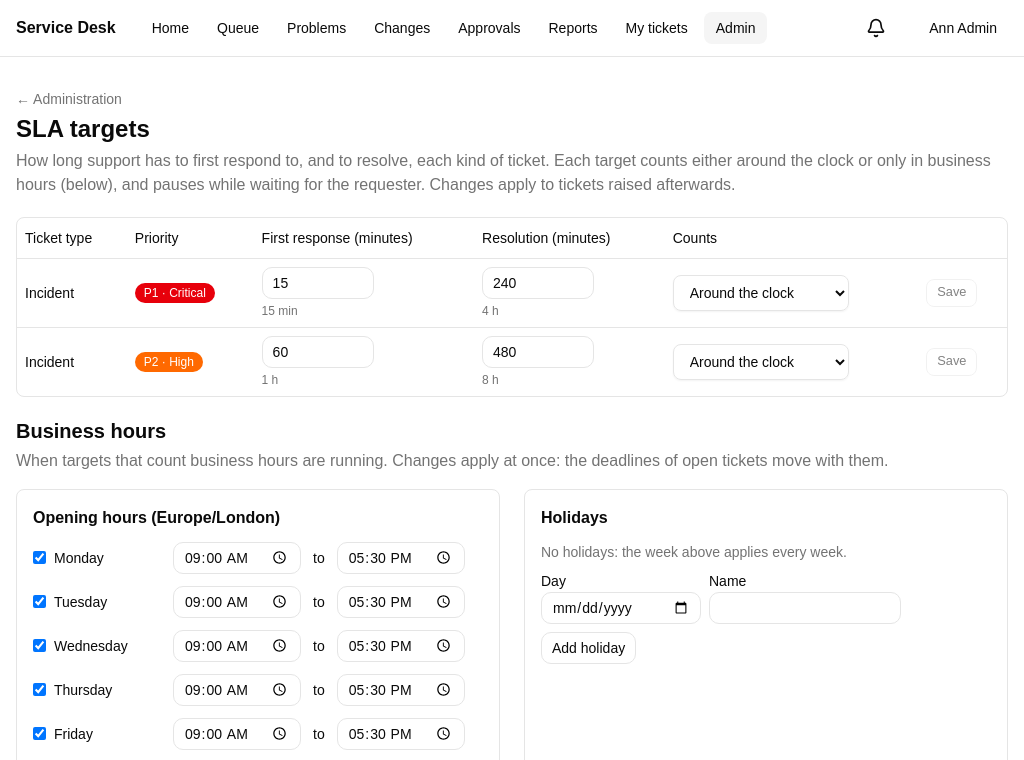
Scenario: SLA targets page › shows why the server refused a change
Clear the number field named "Incident P1 first response, in minutes" at (318, 282), box [262,266,374,298]
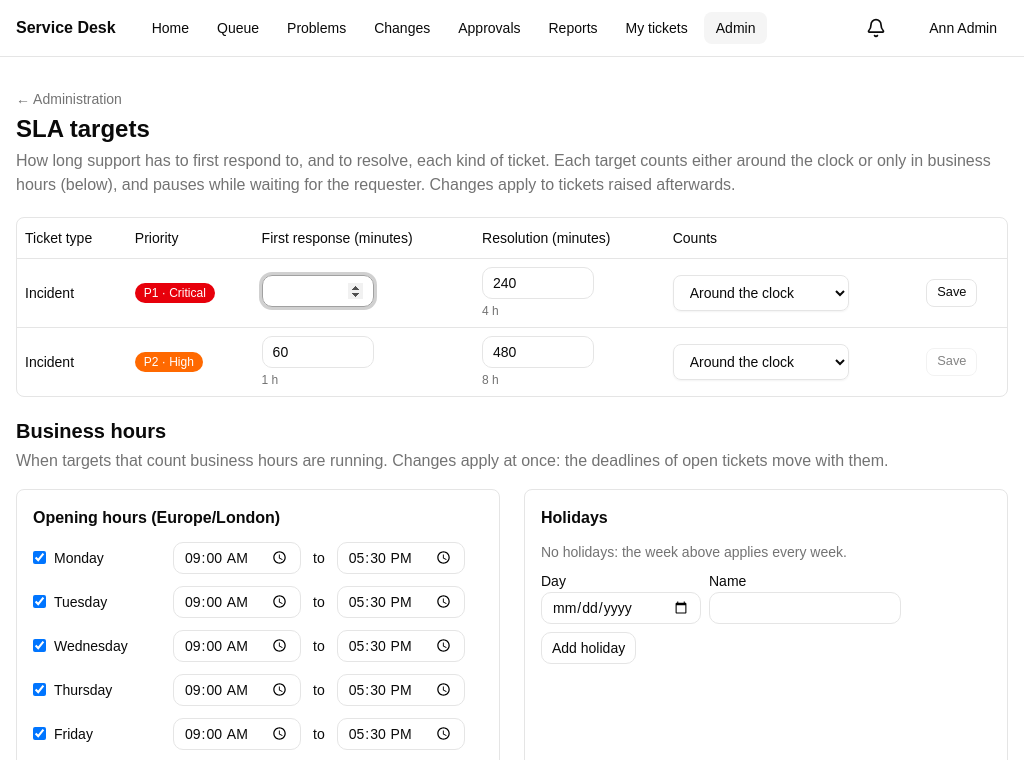
Type "999" into the number field named "Incident P1 first response, in minutes" at (318, 290), box [262,274,374,306]
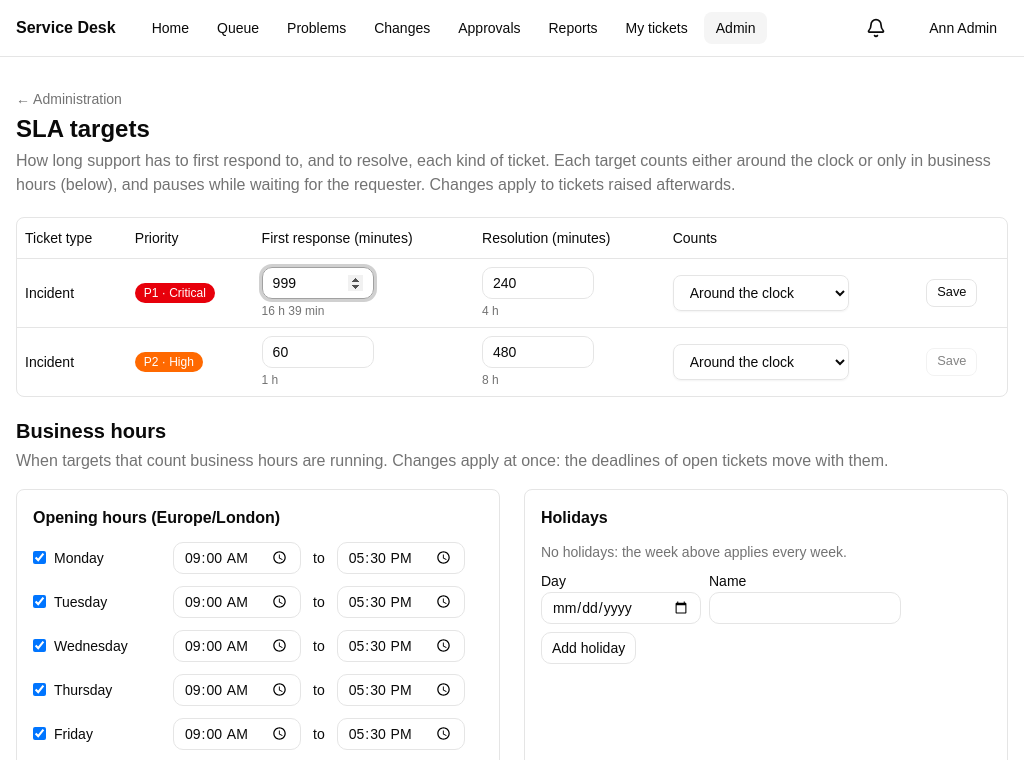
Click the button with aria-label "Save Incident P1" at (952, 292), box [926,278,978,306]
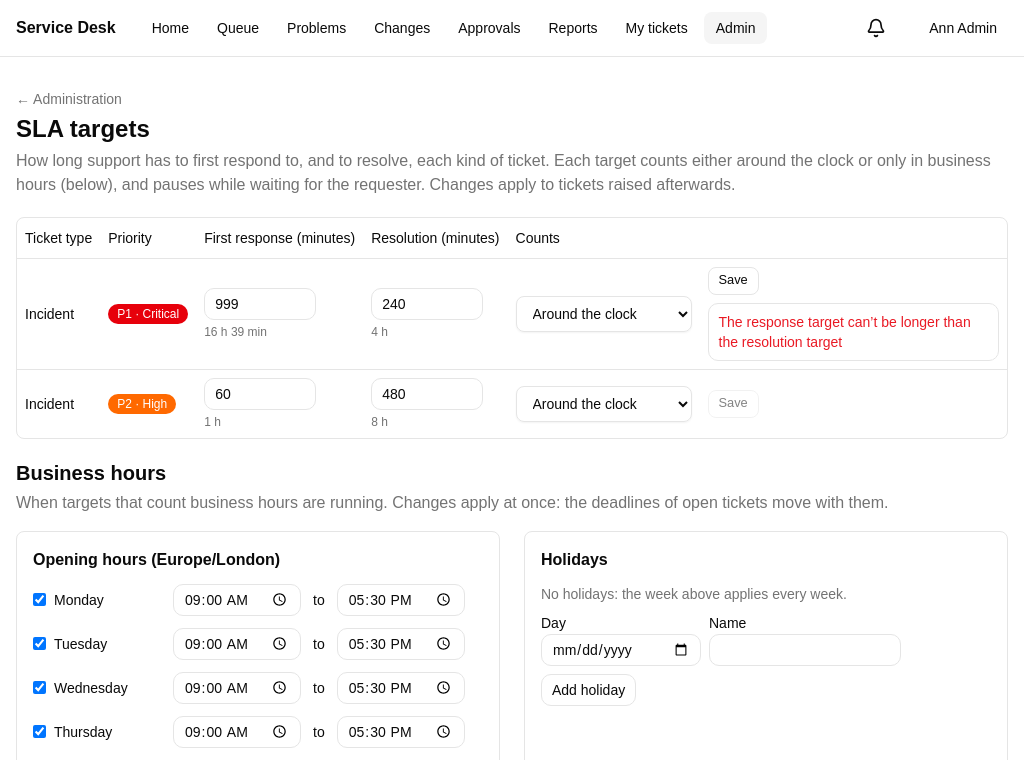
Expected: the message shows "longer than the resolution target", [718,314,971,350]
